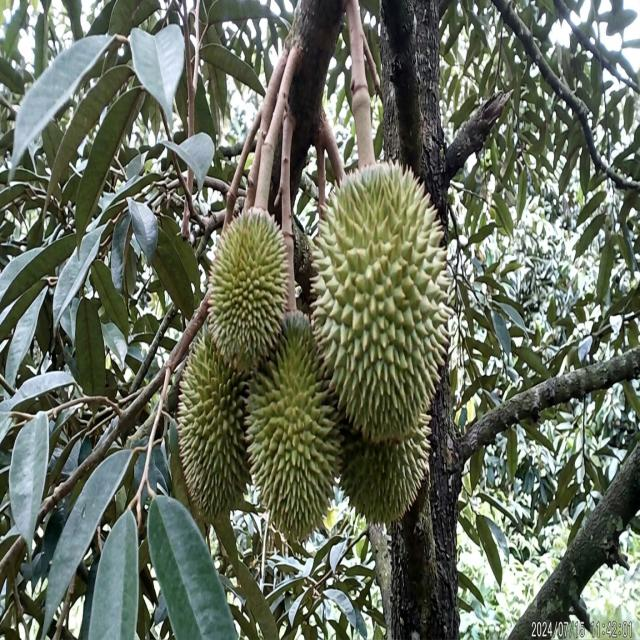immature: (310, 154, 451, 516), (244, 310, 342, 542), (178, 329, 260, 522), (206, 205, 292, 368)
